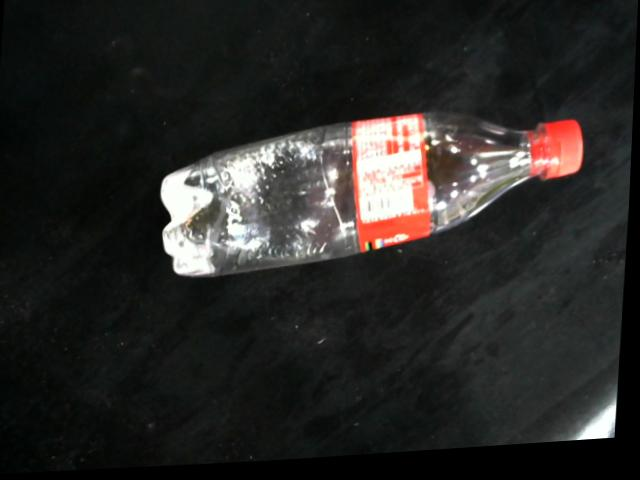bottle: (162, 117, 586, 281)
